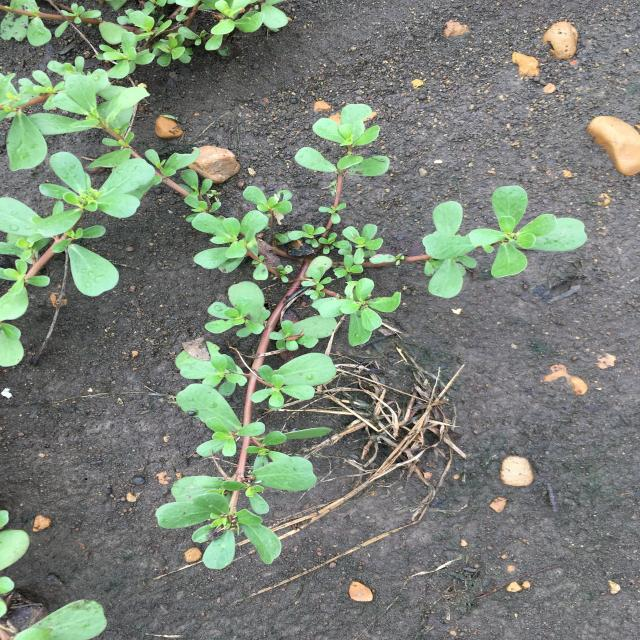Purslane: (16, 74, 588, 570), (0, 0, 290, 171), (0, 149, 156, 368)
